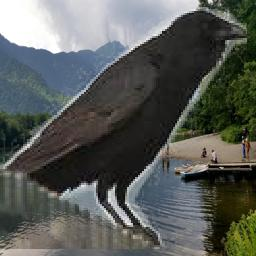Crow: (0, 5, 247, 250)
